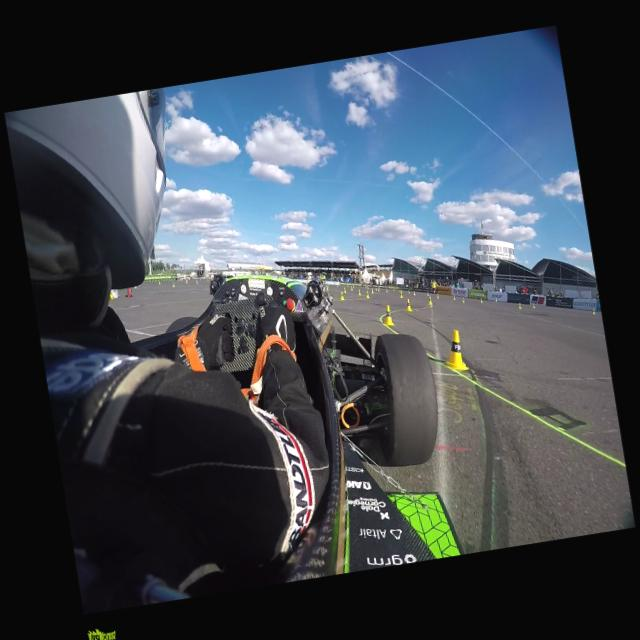yellow_cone: (441, 330, 468, 372), (382, 305, 394, 327), (403, 299, 412, 311), (339, 290, 345, 302), (427, 296, 433, 306), (108, 292, 114, 300), (398, 291, 403, 299), (592, 308, 596, 316), (358, 288, 362, 296), (366, 290, 370, 298), (532, 304, 536, 310), (412, 290, 416, 296), (519, 303, 522, 310), (462, 297, 465, 304), (436, 293, 439, 300), (396, 288, 401, 292), (453, 295, 456, 301), (480, 298, 483, 304), (172, 282, 175, 288), (371, 288, 374, 294), (398, 288, 402, 292), (406, 290, 410, 294), (385, 288, 388, 292), (392, 287, 395, 291), (495, 298, 498, 302), (344, 287, 346, 293), (427, 292, 430, 296), (351, 284, 353, 290), (196, 279, 198, 285)
